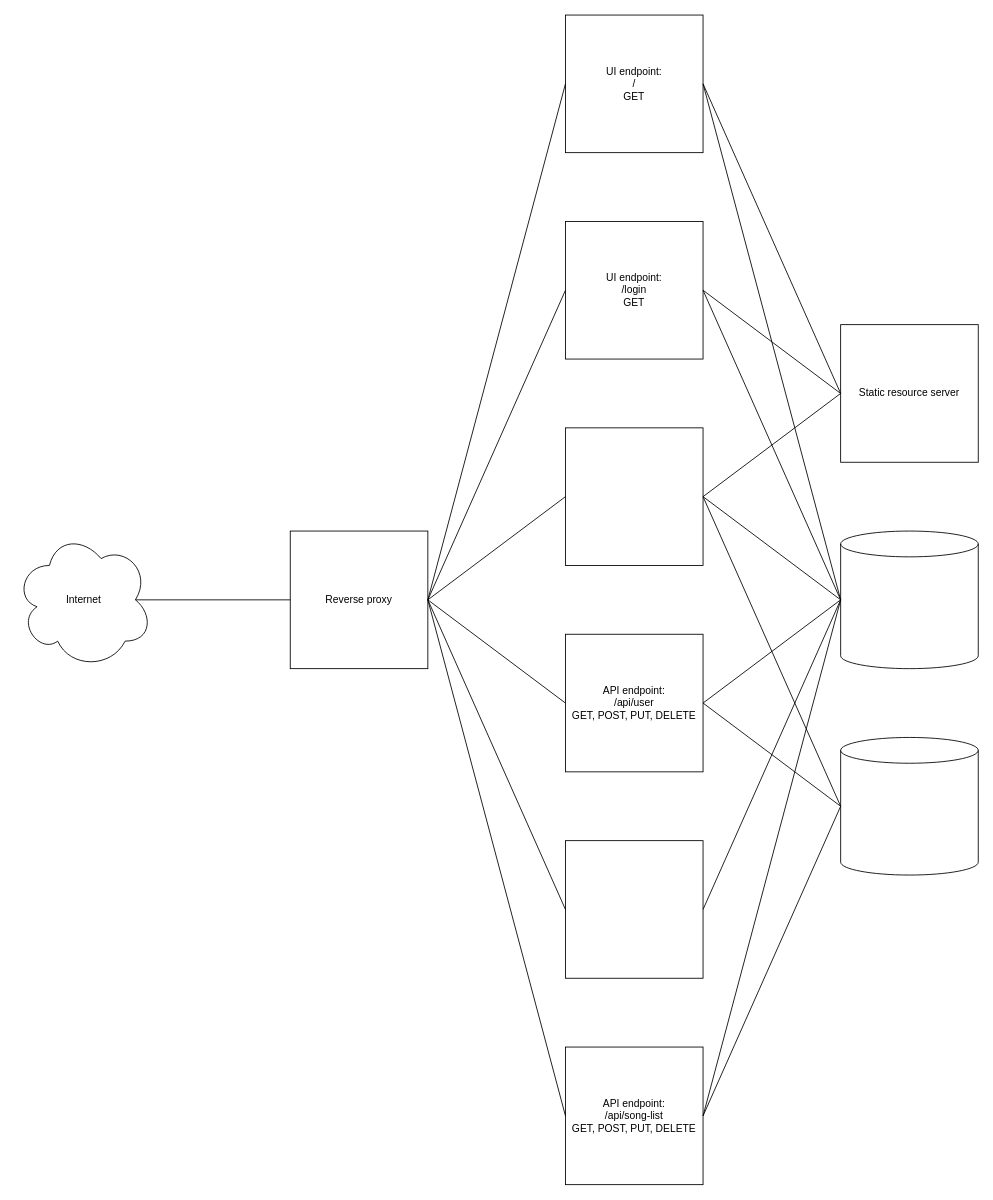
Some shapes in this 993 by 1200 pixel diagram are drawn without their labels. The shapes that lost their labels are listed below. From the top down, each one's centre as x and y in pixels, then its label:
(634,496): UI endpoint: /user GET
(909,599): Database: UserAccount Session
(909,806): Database: UserProfile SongList SongListEntry
(634,909): API endpoint: /api/session POST, DELETE
